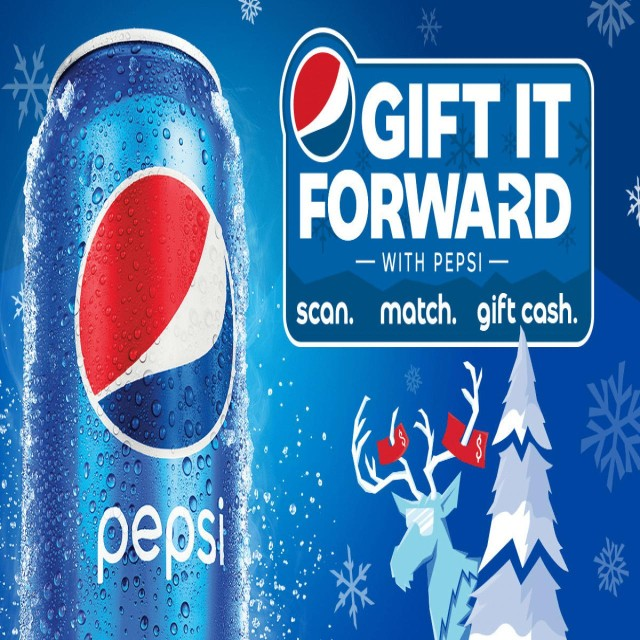pepsi: (74, 165, 234, 455), (291, 46, 355, 165)
